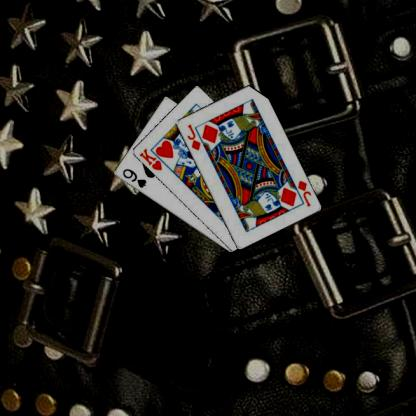9S: (120, 166, 148, 189)
JD: (294, 177, 312, 208), (184, 122, 202, 152)
KH: (136, 146, 163, 172)
